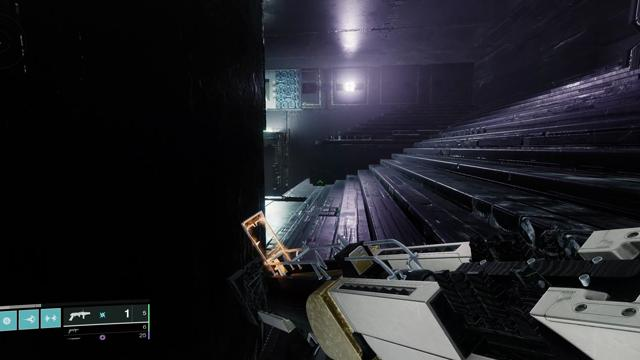grief: (265, 78, 271, 103)
